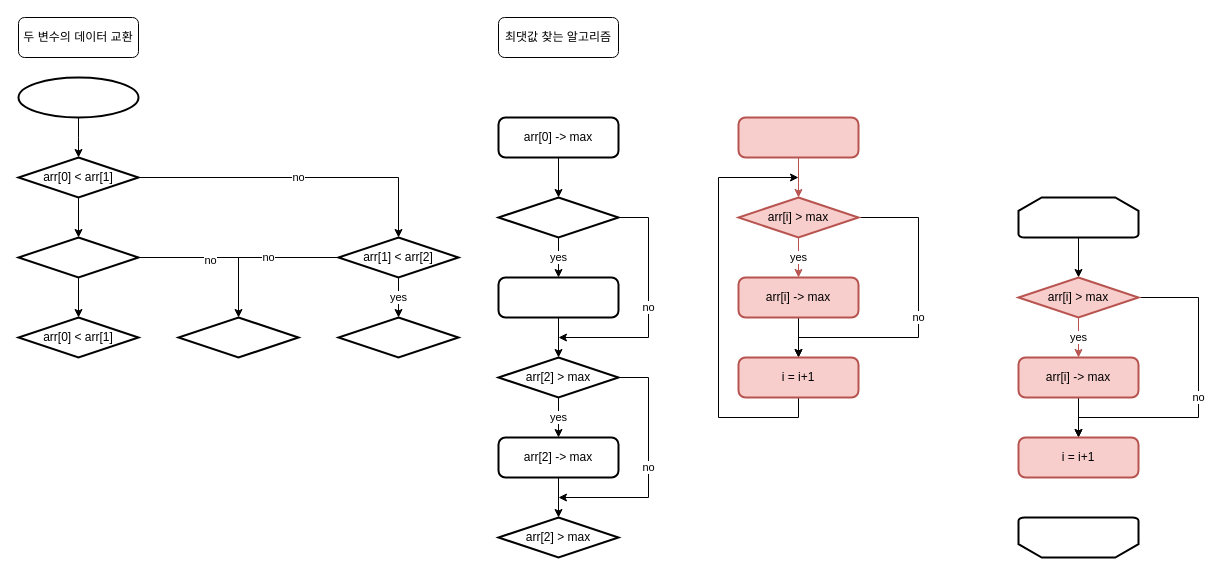
This 1224x576 diagram has some shape labels left out. The shapes that lost their labels are listed below. From the top down, each one's box as (x1, y1, x2, y2) in pixels, then its label:
(17, 76, 139, 118): strat
(737, 116, 859, 158): 1 -> i
(497, 196, 619, 238): arr[1] > max
(1017, 196, 1139, 238): i < len()
(17, 236, 139, 278): arr[0] < arr[2]
(497, 276, 619, 318): arr[1] -> max
(177, 316, 299, 358): arr[2] < arr[3]
(337, 316, 459, 358): arr[1] < arr[3]
